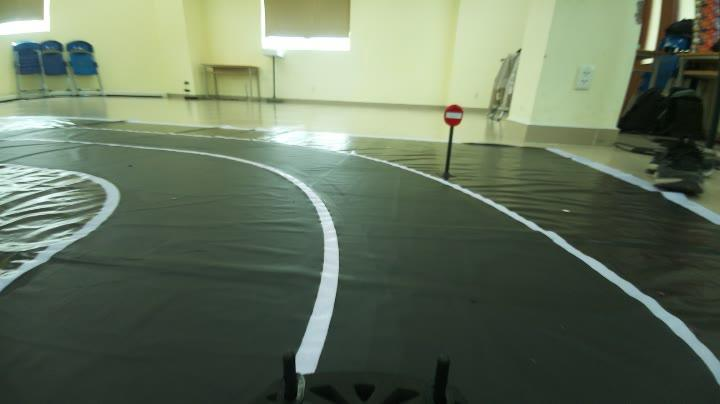no_entry: (439, 100, 468, 131)
